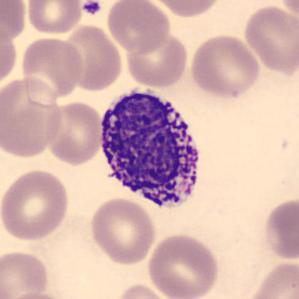Basophil: (94, 81, 208, 219)
Platelets: (80, 0, 102, 16)
RBC: (0, 74, 65, 160), (0, 167, 72, 242), (144, 231, 221, 299), (188, 32, 262, 101), (87, 196, 158, 267), (19, 34, 86, 104), (59, 22, 124, 92), (43, 99, 105, 166), (242, 3, 298, 76), (124, 32, 190, 89), (105, 0, 172, 53), (0, 247, 51, 299), (261, 196, 298, 263), (245, 258, 298, 299), (24, 0, 84, 36), (147, 0, 226, 19), (0, 0, 28, 44), (0, 24, 19, 88), (112, 282, 173, 299), (6, 290, 71, 299), (277, 0, 299, 25)
